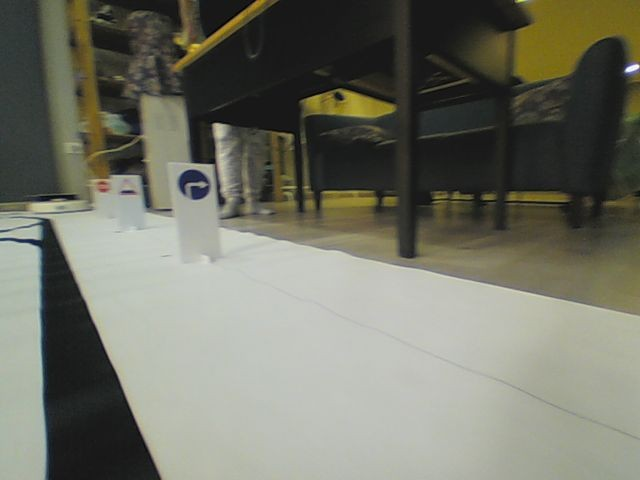Right: (176, 169, 210, 202)
